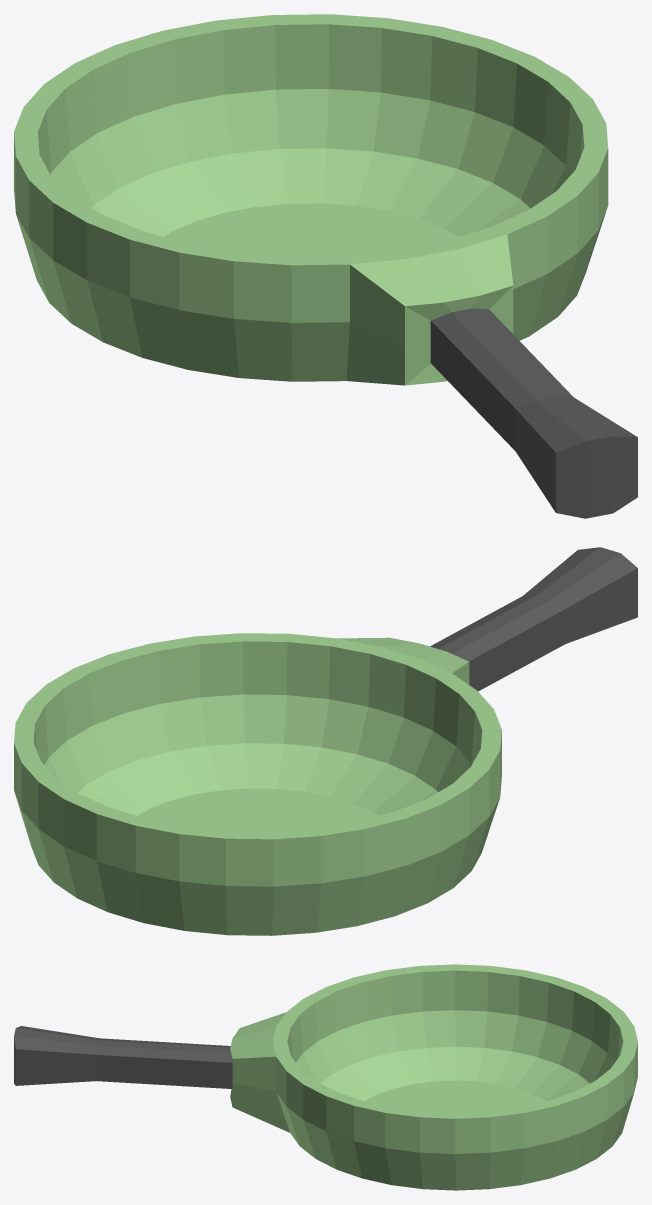
File: Pan.fbx
The picture shows the model from 3 angles, top to bottom: view 1: azimuth 30°, elevation 25°; view 2: azimuth 150°, elevation 25°; view 3: azimuth 270°, elevation 25°; orthographic projection. The views are drawn at different scales.
Parts seen in each view (by area): view 1: Pan; view 2: Pan; view 3: Pan.
Part boxes in pixels (x1,y1,x2,y2): Pan: (14, 14, 637, 518); Pan: (14, 547, 637, 935); Pan: (14, 964, 637, 1190).
Size of the model in its own units: 146 by 43.19 by 249.
